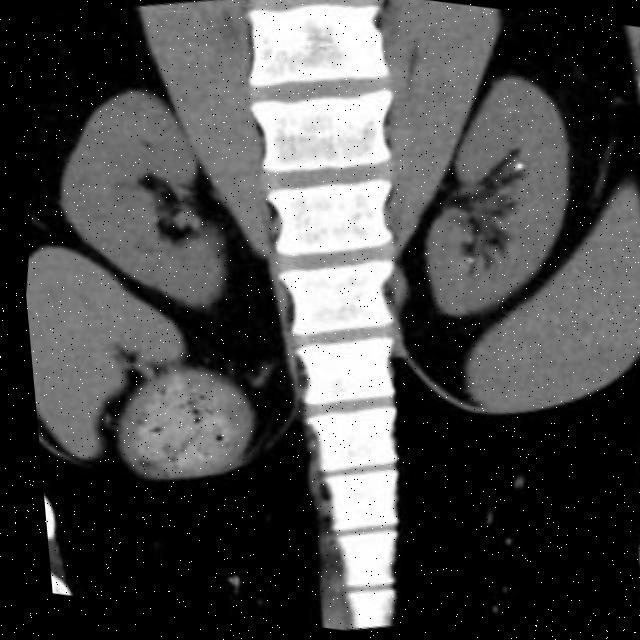Tas_Var: (458, 257, 474, 271), (512, 165, 524, 176), (511, 170, 519, 179)
